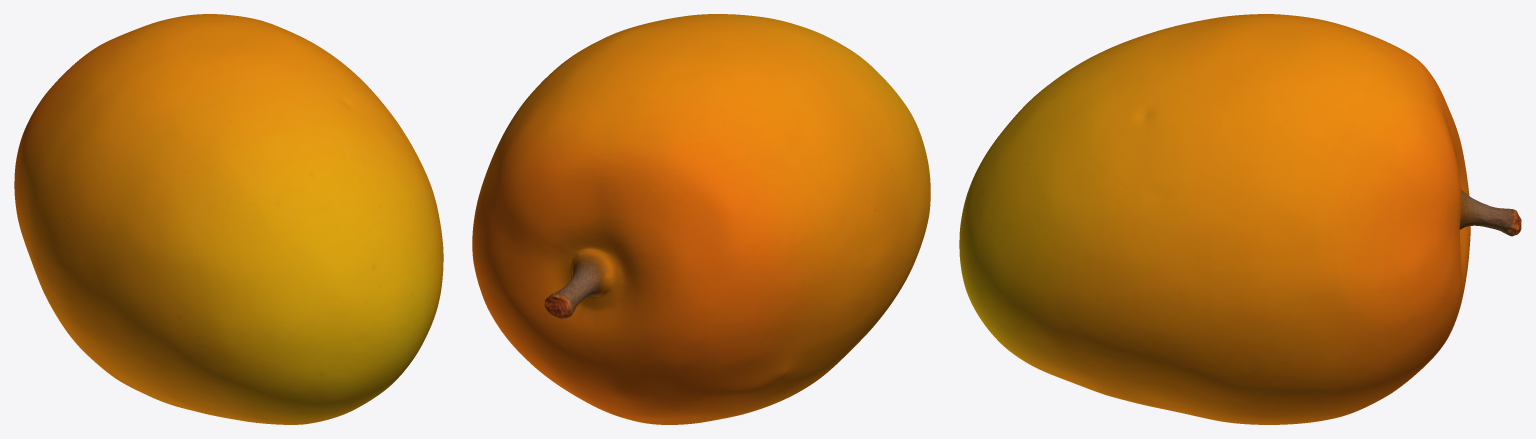
File: girKesarMango.glb
The picture shows the model from 3 angles, left to right: view 1: azimuth 30°, elevation 25°; view 2: azimuth 150°, elevation 25°; view 3: azimuth 270°, elevation 25°; orthographic projection. The views are drawn at different scales.
Parts seen in each view (by area): view 1: tripo_node_565d9195-273f-46ef-8de0-e2be45c0c71f; view 2: tripo_node_565d9195-273f-46ef-8de0-e2be45c0c71f; view 3: tripo_node_565d9195-273f-46ef-8de0-e2be45c0c71f.
Boxes of the visible parts, left/top/right/bottom form: tripo_node_565d9195-273f-46ef-8de0-e2be45c0c71f: left=14, top=14, right=443, bottom=424; tripo_node_565d9195-273f-46ef-8de0-e2be45c0c71f: left=472, top=14, right=930, bottom=424; tripo_node_565d9195-273f-46ef-8de0-e2be45c0c71f: left=959, top=14, right=1521, bottom=424.
Size of the model in its own units: 0.7531 by 0.7217 by 1.
1 material, 1 textured.
